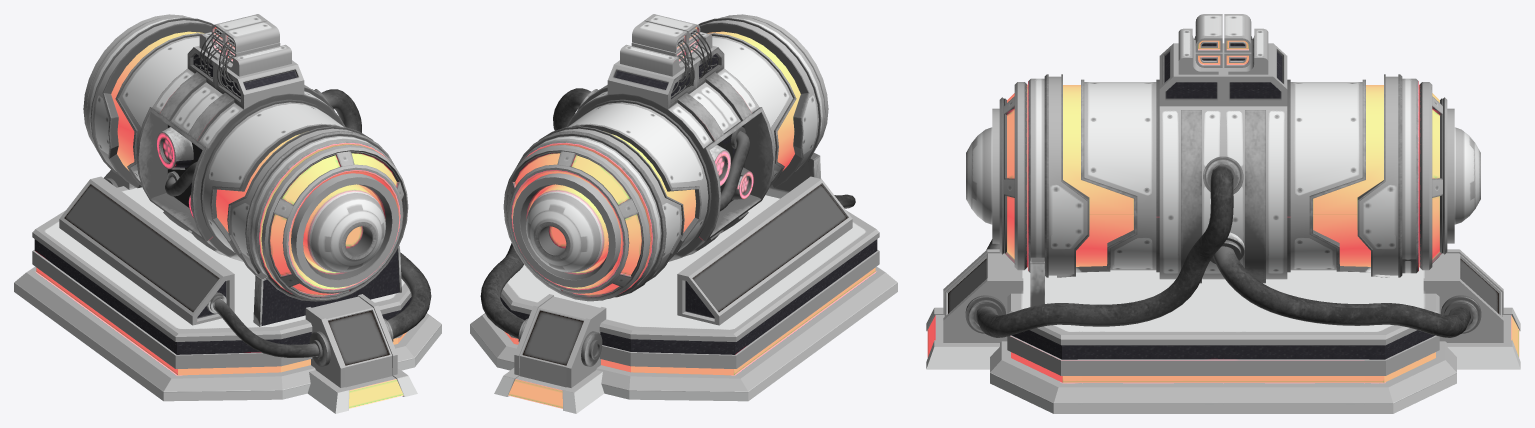
Rendered from SM_Generator3.fbx.
3 views of the same model, side by side, from view 1: azimuth 30°, elevation 25°; view 2: azimuth 150°, elevation 25°; view 3: azimuth 270°, elevation 25° (orthographic). The views are drawn at different scales.
Visible parts, largest first — view 1: SM_Generator3_LOD0; view 2: SM_Generator3_LOD0; view 3: SM_Generator3_LOD0.
Part boxes in pixels (x1=…): SM_Generator3_LOD0: x1=14, y1=14, x2=441, y2=413; SM_Generator3_LOD0: x1=470, y1=14, x2=897, y2=413; SM_Generator3_LOD0: x1=926, y1=14, x2=1520, y2=413.
Size of the model in its own units: 260 by 423 by 252.
1 material, 1 textured.
